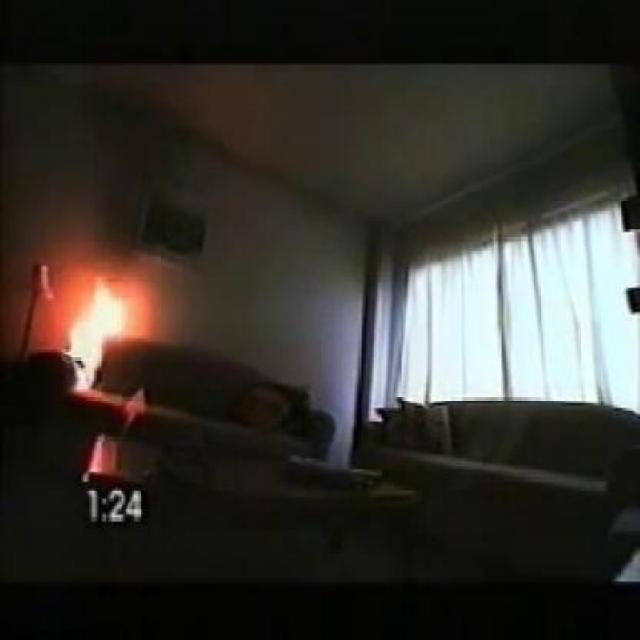fire: (56, 256, 130, 395)
